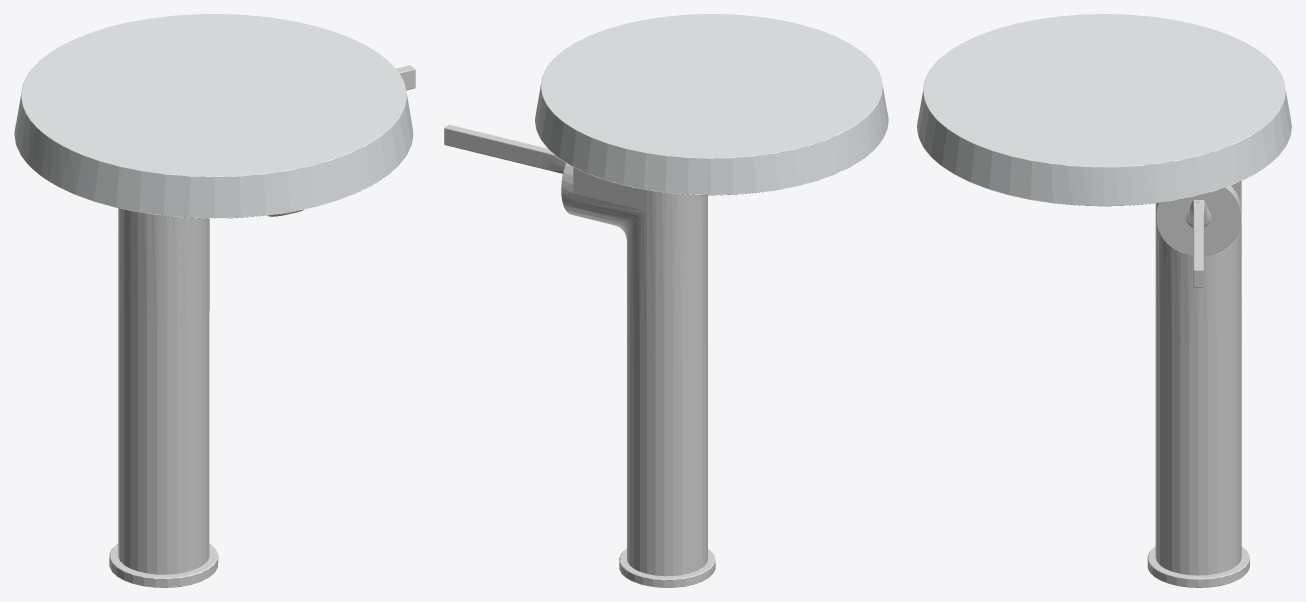
File: AEC_47515.glb
3 views of the same model, side by side, from view 1: azimuth 30°, elevation 25°; view 2: azimuth 150°, elevation 25°; view 3: azimuth 270°, elevation 25° (orthographic). The views are drawn at different scales.
Parts seen in each view (by area): view 1: 0; view 2: 0; view 3: 0.
Part boxes in pixels (bbox=[...]): 0: bbox=[14, 14, 415, 587]; 0: bbox=[444, 14, 888, 587]; 0: bbox=[917, 14, 1291, 587].
Size of the model in its own units: 0.2236 by 0.2565 by 0.183.
1 material, 1 textured.
